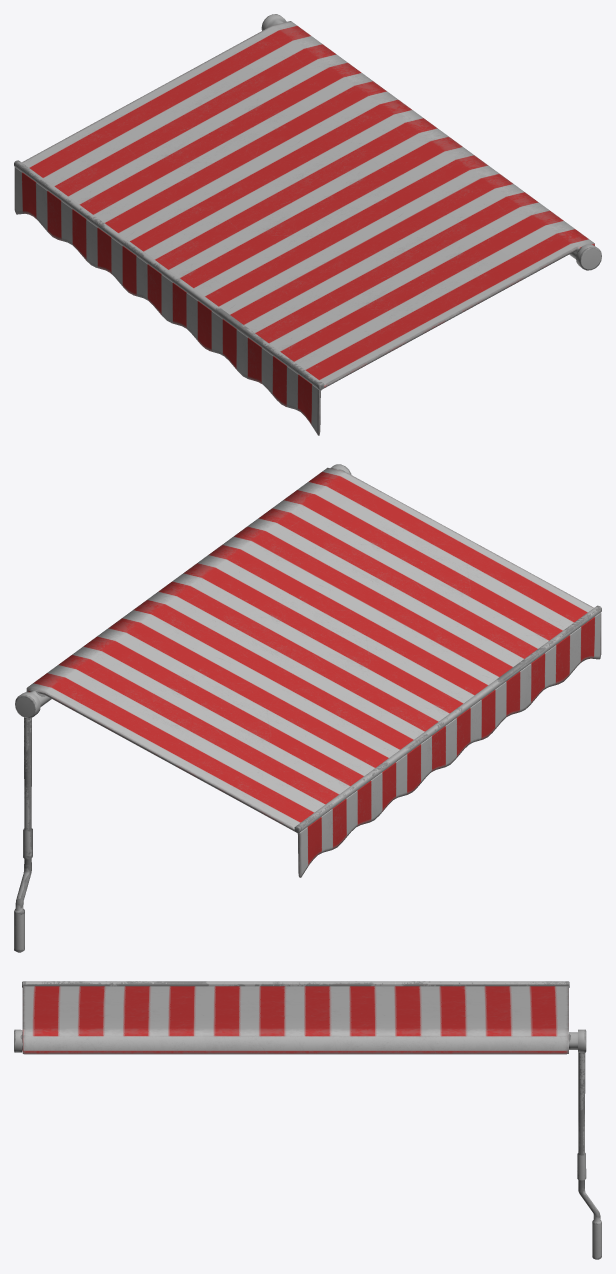
The model's file is SM_Shade.fbx.
The picture shows the model from 3 angles, top to bottom: view 1: azimuth 30°, elevation 25°; view 2: azimuth 150°, elevation 25°; view 3: azimuth 270°, elevation 25°; orthographic projection. The views are drawn at different scales.
Visible parts, largest first — view 1: SM_Shade_LOD0; view 2: SM_Shade_LOD0; view 3: SM_Shade_LOD0.
Part boxes in pixels (<box>): SM_Shade_LOD0: <box>14,14,601,435</box>; SM_Shade_LOD0: <box>14,464,601,952</box>; SM_Shade_LOD0: <box>14,981,601,1259</box>.
Size of the model in its own units: 251 by 510 by 218.
Materials: 1 (1 with a texture image).
